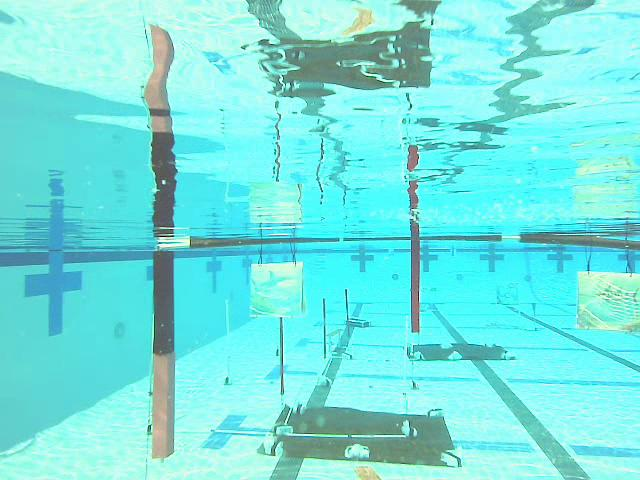black_poster: (277, 317, 287, 394), (322, 299, 328, 359), (345, 287, 349, 338)
divider: (409, 214, 423, 335)
left_gate_poster: (155, 250, 172, 457)
swordfish: (575, 270, 640, 333), (250, 261, 300, 312)
white_poster: (221, 291, 235, 387)
